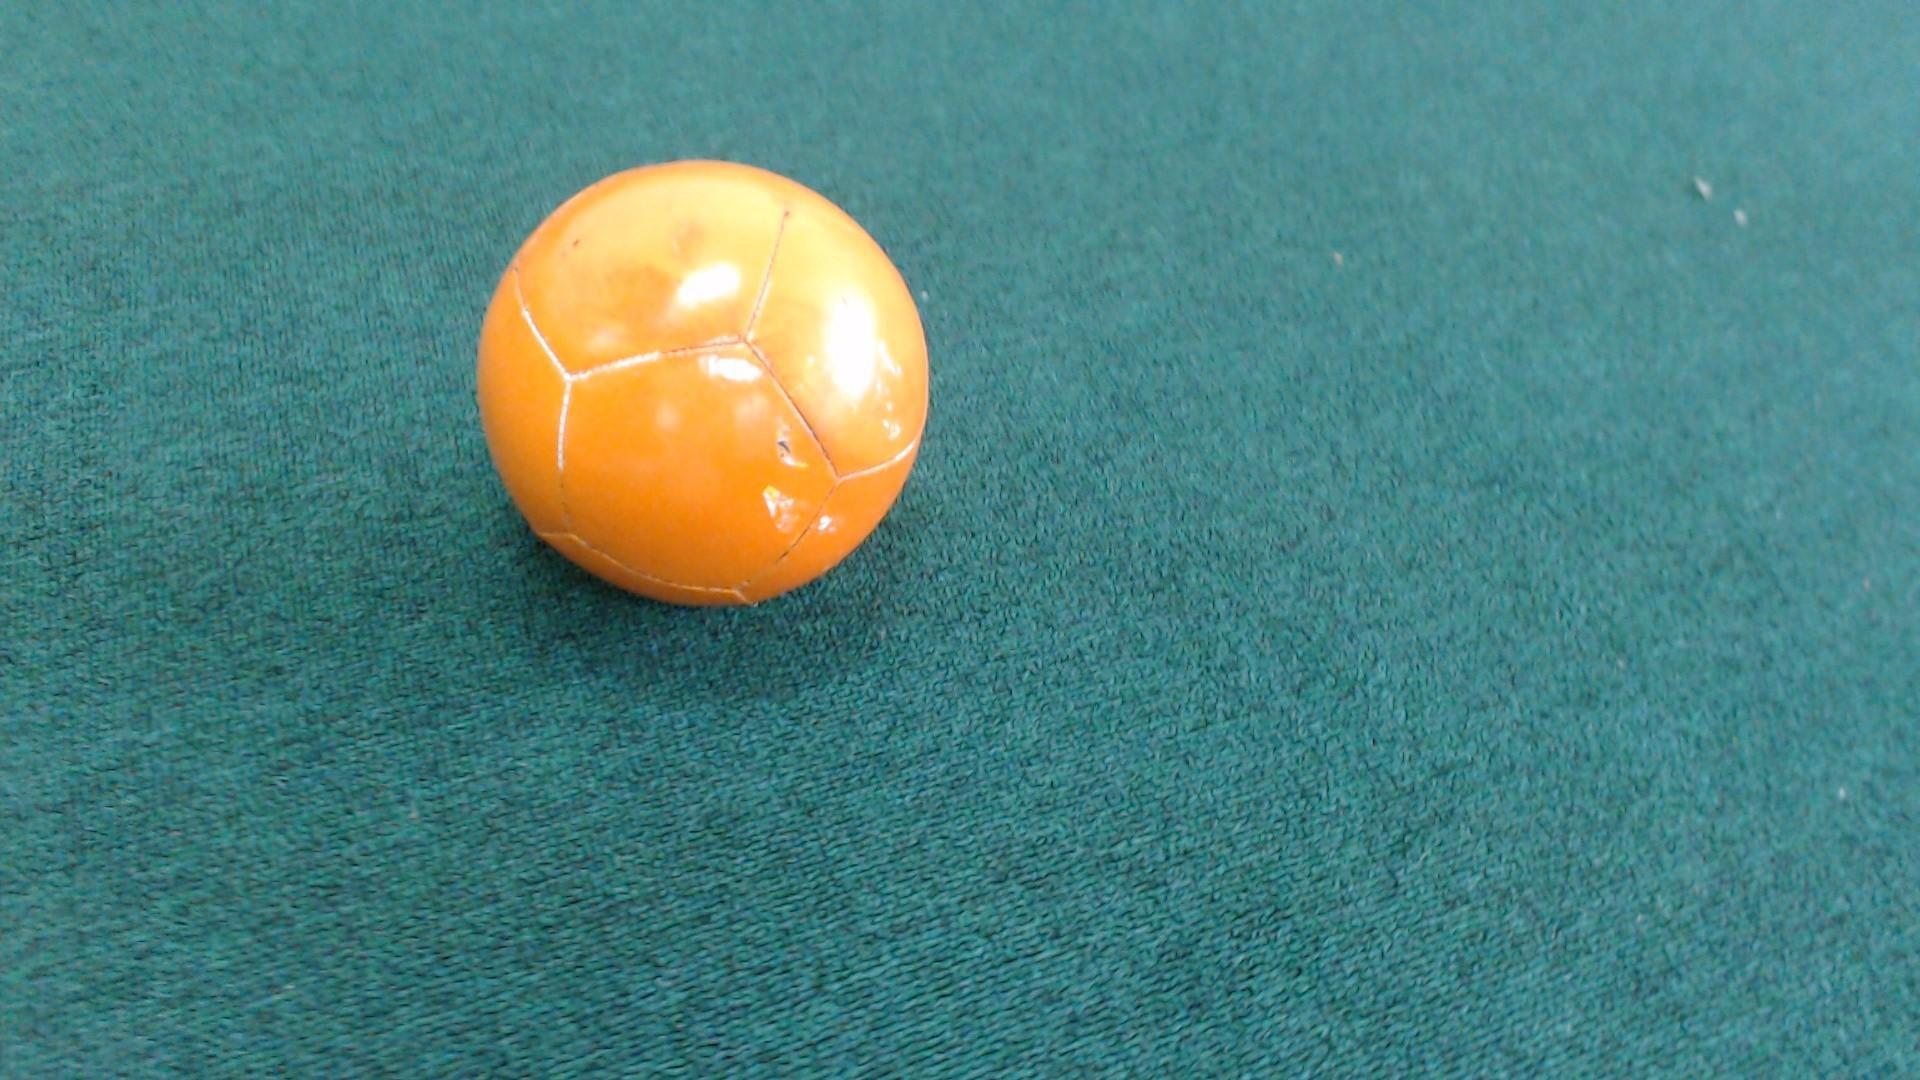bola: (435, 116, 1005, 673)
